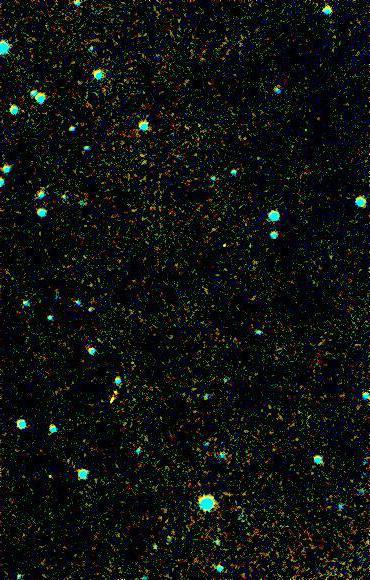star: (209, 233, 239, 263)
